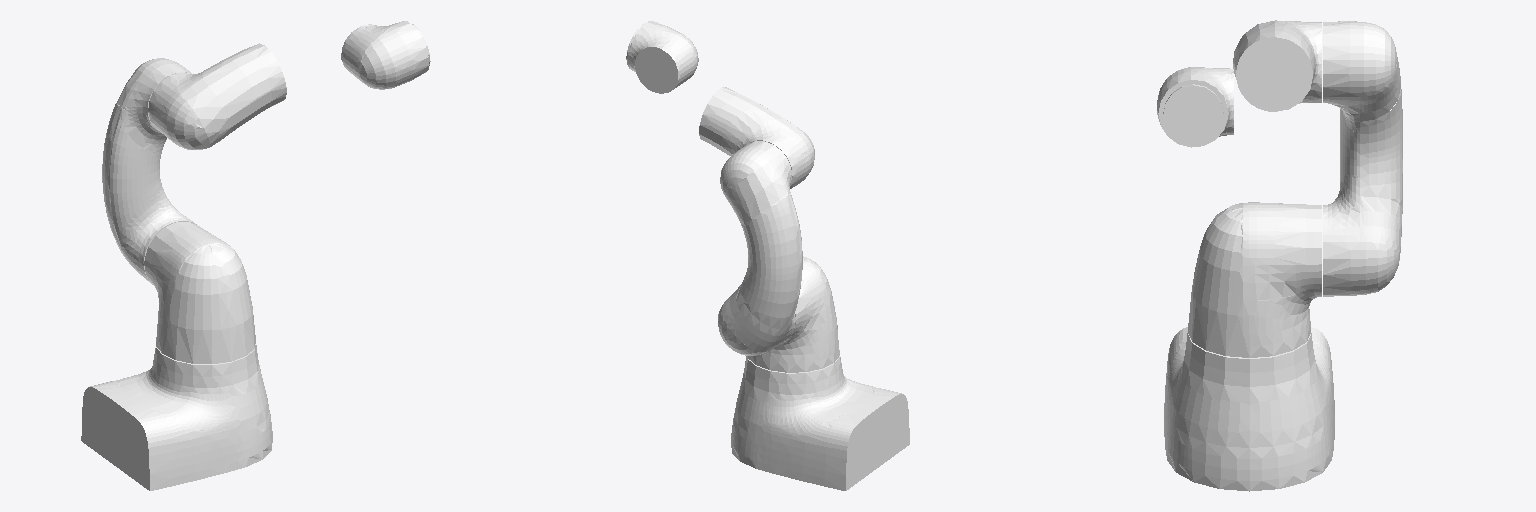
URDF robot description (cobotta):
<?xml version="1.0" encoding="utf-8"?>
<!-- =================================================================================== -->
<!-- |    This document was autogenerated by xacro from cobotta.urdf.xacro             | -->
<!-- |    EDITING THIS FILE BY HAND IS NOT RECOMMENDED                                 | -->
<!-- =================================================================================== -->
<robot name="cobotta">
  <!-- plugin for Gazebo -->
  <gazebo>
    <plugin filename="libgazebo_ros_control.so" name="gazebo_ros_control">
      <robotNamespace>/cobotta</robotNamespace>
      <robotSimType>gazebo_ros_control/DefaultRobotHWSim</robotSimType>
      <legacyModeNS>true</legacyModeNS>
    </plugin>
  </gazebo>
  <link name="world"/>
  <joint name="joint_w" type="fixed">
    <parent link="world"/>
    <child link="base_link"/>
  </joint>
  <link name="base_link">
    <visual>
      <origin rpy="0 0 0" xyz="0 0 0"/>
      <geometry>
        <mesh filename="package://denso_robot_descriptions/cobotta_description/base_link.dae" scale="1 1 1"/>
      </geometry>
    </visual>
    <collision>
      <origin rpy="0 0 0" xyz="0 0 0"/>
      <geometry>
        <mesh filename="package://denso_robot_descriptions/cobotta_description/base_link.dae" scale="1 1 1"/>
      </geometry>
    </collision>
    <inertial>
      <mass value="1.4"/>
      <origin rpy="0.000000 0.000000 0.000000" xyz="-0.021310 0.000002 0.044011"/>
      <inertia ixx="0.00266" ixy="0.0" ixz="0.0" iyy="0.00266" iyz="0.0" izz="0.00448"/>
    </inertial>
  </link>
  <link name="J1">
    <visual>
      <origin rpy="0 0 0" xyz="0 0 0"/>
      <geometry>
        <mesh filename="package://denso_robot_descriptions/cobotta_description/J1.dae" scale="1 1 1"/>
      </geometry>
    </visual>
    <collision>
      <origin rpy="0 0 0" xyz="0 0 0"/>
      <geometry>
        <mesh filename="package://denso_robot_descriptions/cobotta_description/J1.dae" scale="1 1 1"/>
      </geometry>
    </collision>
    <inertial>
      <mass value="1.29"/>
      <origin rpy="0.000000 0.000000 0.000000" xyz="0.000000 0.000000 0.15"/>
      <inertia ixx="0.002236" ixy="0.0" ixz="0.0" iyy="0.002236" iyz="0.0" izz="0.002322"/>
    </inertial>
  </link>
  <joint name="joint_1" type="revolute">
    <parent link="base_link"/>
    <child link="J1"/>
    <origin rpy="0.000000 0.000000 0.000000" xyz="0.000000 0.000000 0.000000"/>
    <axis xyz="-0.000000 -0.000000 1.000000"/>
    <limit effort="10" lower="-2.617994" upper="2.617994" velocity="0.40317105721069"/>
    <dynamics damping="0.001" friction="0.61"/>
  </joint>
  <transmission name="trans_1">
    <type>transmission_interface/SimpleTransmission</type>
    <joint name="joint_1">
      <hardwareInterface>hardware_interface/PositionJointInterface</hardwareInterface>
    </joint>
    <actuator name="motor_1">
      <hardwareInterface>hardware_interface/PositionJointInterface</hardwareInterface>
      <mechanicalReduction>1</mechanicalReduction>
    </actuator>
  </transmission>
  <link name="J2">
    <visual>
      <origin rpy="0 0 0" xyz="0 0 0"/>
      <geometry>
        <mesh filename="package://denso_robot_descriptions/cobotta_description/J2.dae" scale="1 1 1"/>
      </geometry>
    </visual>
    <collision>
      <origin rpy="0 0 0" xyz="0 0 0"/>
      <geometry>
        <mesh filename="package://denso_robot_descriptions/cobotta_description/J2.dae" scale="1 1 1"/>
      </geometry>
    </collision>
    <inertial>
      <mass value="0.39"/>
      <origin rpy="0.000000 0.000000 0.000000" xyz="-0.020000 0.100000 0.070000"/>
      <inertia ixx="0.00055575" ixy="0.0" ixz="0.0" iyy="0.00055575" iyz="0.0" izz="0.0001755"/>
    </inertial>
  </link>
  <joint name="joint_2" type="revolute">
    <parent link="J1"/>
    <child link="J2"/>
    <origin rpy="0.000000 0.000000 0.000000" xyz="0.000000 0.000000 0.180000"/>
    <axis xyz="-0.000000 1.000000 -0.000000"/>
    <limit effort="10" lower="-1.047198" upper="1.745329" velocity="0.392175482923126"/>
    <dynamics damping="0.001" friction="0.61"/>
  </joint>
  <transmission name="trans_2">
    <type>transmission_interface/SimpleTransmission</type>
    <joint name="joint_2">
      <hardwareInterface>hardware_interface/PositionJointInterface</hardwareInterface>
    </joint>
    <actuator name="motor_2">
      <hardwareInterface>hardware_interface/PositionJointInterface</hardwareInterface>
      <mechanicalReduction>1</mechanicalReduction>
    </actuator>
  </transmission>
  <link name="J3">
    <visual>
      <origin rpy="0 0 0" xyz="0 0 0"/>
      <geometry>
        <mesh filename="package://denso_robot_descriptions/cobotta_description/J3.dae" scale="1 1 1"/>
      </geometry>
    </visual>
    <collision>
      <origin rpy="0 0 0" xyz="0 0 0"/>
      <geometry>
        <mesh filename="package://denso_robot_descriptions/cobotta_description/J3.dae" scale="1 1 1"/>
      </geometry>
    </collision>
    <inertial>
      <mass value="0.35"/>
      <origin rpy="0.000000 0.000000 0.000000" xyz="-0.01000 0.020000 0.030000"/>
      <inertia ixx="0.000431666666667" ixy="0.0" ixz="0.0" iyy="0.000431666666667" iyz="0.0" izz="0.0001575"/>
    </inertial>
  </link>
  <joint name="joint_3" type="revolute">
    <parent link="J2"/>
    <child link="J3"/>
    <origin rpy="0.000000 0.000000 0.000000" xyz="0.000000 0.000000 0.165000"/>
    <axis xyz="-0.000000 1.000000 -0.000000"/>
    <limit effort="10" lower="0.3141593" upper="2.443461" velocity="0.725707902979242"/>
    <dynamics damping="0.001" friction="0.61"/>
  </joint>
  <transmission name="trans_3">
    <type>transmission_interface/SimpleTransmission</type>
    <joint name="joint_3">
      <hardwareInterface>hardware_interface/PositionJointInterface</hardwareInterface>
    </joint>
    <actuator name="motor_3">
      <hardwareInterface>hardware_interface/PositionJointInterface</hardwareInterface>
      <mechanicalReduction>1</mechanicalReduction>
    </actuator>
  </transmission>
  <link name="J4">
    <visual>
      <origin rpy="0 0 0" xyz="0 0 0"/>
      <geometry>
        <mesh filename="package://denso_robot_descriptions/cobotta_description/J4.dae" scale="1 1 1"/>
      </geometry>
    </visual>
    <collision>
      <origin rpy="0 0 0" xyz="0 0 0"/>
      <geometry>
        <mesh filename="package://denso_robot_descriptions/cobotta_description/J4.dae" scale="1 1 1"/>
      </geometry>
    </collision>
    <inertial>
      <mass value="0.35"/>
      <origin rpy="0.000000 0.000000 0.000000" xyz="0.0000 0.000000 0.055000"/>
      <inertia ixx="0.000431666666667" ixy="0.0" ixz="0.0" iyy="0.000431666666667" iyz="0.0" izz="0.0001575"/>
    </inertial>
  </link>
  <joint name="joint_4" type="revolute">
    <parent link="J3"/>
    <child link="J4"/>
    <origin rpy="0.000000 0.000000 0.000000" xyz="-0.012000 0.020000 0.088000"/>
    <axis xyz="-0.000000 -0.000000 1.000000"/>
    <limit effort="10" lower="-2.96706" upper="2.96706" velocity="0.739146938219599"/>
    <dynamics damping="0.001" friction="0.61"/>
  </joint>
  <transmission name="trans_4">
    <type>transmission_interface/SimpleTransmission</type>
    <joint name="joint_4">
      <hardwareInterface>hardware_interface/PositionJointInterface</hardwareInterface>
    </joint>
    <actuator name="motor_4">
      <hardwareInterface>hardware_interface/PositionJointInterface</hardwareInterface>
      <mechanicalReduction>1</mechanicalReduction>
    </actuator>
  </transmission>
  <link name="J5">
    <visual>
      <origin rpy="0 0 0" xyz="0 0 0"/>
      <geometry>
        <mesh filename="package://denso_robot_descriptions/cobotta_description/J5.dae" scale="1 1 1"/>
      </geometry>
    </visual>
    <collision>
      <origin rpy="0 0 0" xyz="0 0 0"/>
      <geometry>
        <mesh filename="package://denso_robot_descriptions/cobotta_description/J5.dae" scale="1 1 1"/>
      </geometry>
    </collision>
    <inertial>
      <mass value="0.19"/>
      <origin rpy="0.000000 0.000000 0.000000" xyz="0.000000 -0.040000 0.015000"/>
      <inertia ixx="9.975e-05" ixy="0.0" ixz="0.0" iyy="9.975e-05" iyz="0.0" izz="8.55e-05"/>
    </inertial>
  </link>
  <joint name="joint_5" type="revolute">
    <parent link="J4"/>
    <child link="J5"/>
    <origin rpy="0.000000 0.000000 0.000000" xyz="0.000000 -0.020000 0.089500"/>
    <axis xyz="-0.000000 1.000000 -0.000000"/>
    <limit effort="10" lower="-1.658063" upper="2.356194" velocity="0.739146938219599"/>
    <dynamics damping="0.001" friction="0.61"/>
  </joint>
  <transmission name="trans_5">
    <type>transmission_interface/SimpleTransmission</type>
    <joint name="joint_5">
      <hardwareInterface>hardware_interface/PositionJointInterface</hardwareInterface>
    </joint>
    <actuator name="motor_5">
      <hardwareInterface>hardware_interface/PositionJointInterface</hardwareInterface>
      <mechanicalReduction>1</mechanicalReduction>
    </actuator>
  </transmission>
  <link name="J6">
    <visual>
      <origin rpy="0 0 0" xyz="0 0 0"/>
      <geometry>
        <mesh filename="package://denso_robot_descriptions/cobotta_description/J6.dae" scale="1 1 1"/>
      </geometry>
    </visual>
    <collision>
      <origin rpy="0 0 0" xyz="0 0 0"/>
      <geometry>
        <mesh filename="package://denso_robot_descriptions/cobotta_description/J6.dae" scale="1 1 1"/>
      </geometry>
    </collision>
    <inertial>
      <mass value="0.03"/>
      <origin rpy="0.000000 0.000000 0.000000" xyz="0.000000 0.000000 0.000000"/>
      <inertia ixx="7e-06" ixy="0.0" ixz="0.0" iyy="7e-06" iyz="0.0" izz="1.35e-05"/>
    </inertial>
  </link>
  <joint name="joint_6" type="revolute">
    <parent link="J5"/>
    <child link="J6"/>
    <origin rpy="0.000000 0.000000 0.000000" xyz="0.000000 -0.044500 0.042000"/>
    <axis xyz="-0.000000 -0.000000 1.000000"/>
    <limit effort="10" lower="-2.96706" upper="2.96706" velocity="1.1093312725676"/>
    <dynamics damping="0.001" friction="0.61"/>
  </joint>
  <transmission name="trans_6">
    <type>transmission_interface/SimpleTransmission</type>
    <joint name="joint_6">
      <hardwareInterface>hardware_interface/PositionJointInterface</hardwareInterface>
    </joint>
    <actuator name="motor_6">
      <hardwareInterface>hardware_interface/PositionJointInterface</hardwareInterface>
      <mechanicalReduction>1</mechanicalReduction>
    </actuator>
  </transmission>
  <link name="gripper_base">
    <visual>
      <origin rpy="0 0 0" xyz="0.000000 0.000000 0.000000"/>
      <geometry>
        <mesh filename="package://denso_robot_descriptions/cobotta_description/gripper_base.dae" scale="1 1 1"/>
      </geometry>
    </visual>
    <collision>
      <origin rpy="0 0 0" xyz="0 0 0"/>
      <geometry>
        <mesh filename="package://denso_robot_descriptions/cobotta_description/gripper_base.dae" scale="1 1 1"/>
      </geometry>
    </collision>
    <inertial>
      <mass value="1"/>
      <origin rpy="0.000000 0.000000 0.000000" xyz="0.000000 0.000000 0.000000"/>
      <inertia ixx="1" ixy="0" ixz="0" iyy="1" iyz="0" izz="1"/>
    </inertial>
  </link>
  <joint name="joint_gripper_base" type="fixed">
    <parent link="J6"/>
    <child link="gripper_base"/>
    <origin rpy="0.000000 0.000000 0.000000" xyz="0.000000 0.000000 0.0000000"/>
  </joint>
  <link name="left_finger">
    <visual>
      <origin rpy="0.000000 0.000000 0.000000" xyz="0.000000 0.000000 -0.060000"/>
      <geometry>
        <mesh filename="package://denso_robot_descriptions/cobotta_description/left_finger.dae" scale="1 1 1"/>
      </geometry>
    </visual>
    <collision>
      <origin rpy="0 0 0" xyz="0.000000 0.000000 -0.060000"/>
      <geometry>
        <mesh filename="package://denso_robot_descriptions/cobotta_description/left_finger.dae" scale="1 1 1"/>
      </geometry>
    </collision>
    <inertial>
      <mass value="1"/>
      <origin rpy="0.000000 0.000000 0.000000" xyz="0.000000 0.000000 0.000000"/>
      <inertia ixx="1" ixy="0" ixz="0" iyy="1" iyz="0" izz="1"/>
    </inertial>
  </link>
  <joint name="joint_gripper" type="prismatic">
    <parent link="gripper_base"/>
    <child link="left_finger"/>
    <origin rpy="0.000000 0.000000 0.000000" xyz="0.000000 0.000000 0.06000"/>
    <axis xyz="-0.000000 1.000000 -0.000000"/>
    <limit effort="20" lower="0.000000" upper="0.015000" velocity="0.040000"/>
    <dynamics damping="0" friction="0"/>
  </joint>
  <transmission name="trans_gripper">
    <type>transmission_interface/SimpleTransmission</type>
    <joint name="joint_gripper">
      <hardwareInterface>hardware_interface/PositionJointInterface</hardwareInterface>
    </joint>
    <actuator name="motor_gripper">
      <hardwareInterface>hardware_interface/PositionJointInterface</hardwareInterface>
      <mechanicalReduction>1</mechanicalReduction>
    </actuator>
  </transmission>
  <link name="right_finger">
    <visual>
      <origin rpy="0.000000 0.000000 0.000000" xyz="0.000000 0.000000 -0.060000"/>
      <geometry>
        <mesh filename="package://denso_robot_descriptions/cobotta_description/right_finger.dae" scale="1 1 1"/>
      </geometry>
    </visual>
    <collision>
      <origin rpy="0 0 0" xyz="0.000000 0.000000 -0.060000"/>
      <geometry>
        <mesh filename="package://denso_robot_descriptions/cobotta_description/right_finger.dae" scale="1 1 1"/>
      </geometry>
    </collision>
    <inertial>
      <mass value="1"/>
      <origin rpy="0.000000 0.000000 0.000000" xyz="0.000000 0.000000 0.000000"/>
      <inertia ixx="1" ixy="0" ixz="0" iyy="1" iyz="0" izz="1"/>
    </inertial>
  </link>
  <joint name="joint_gripper_mimic" type="prismatic">
    <parent link="gripper_base"/>
    <child link="right_finger"/>
    <mimic joint="joint_gripper" multiplier="-1.000000" offset="0.000000"/>
    <origin rpy="0.000000 0.000000 0.000000" xyz="0.000000 0.000000 0.060000"/>
    <axis xyz="-0.000000 1.000000 -0.000000"/>
    <limit effort="20" lower="-0.015000" upper="0.000000" velocity="0.040000"/>
    <dynamics damping="0" friction="0"/>
  </joint>
</robot>

--- Render facts (derived) ---
Views: 3 orthographic renders of the robot side by side, from view 1: azimuth 30°, elevation 25°; view 2: azimuth 150°, elevation 25°; view 3: azimuth 270°, elevation 25°.
Robot: cobotta — 11 links, 10 joints (6 revolute, 2 prismatic, 2 fixed); root link world; default pose: joints at zero except 1 at the middle of their limits (joint_3 = 1.38).
Links seen in each view (by area): view 1: base_link, J1, J2, J3, J5; view 2: base_link, J2, J3, J1, J5; view 3: base_link, J2, J1, J3, J6, J5.
Link boxes in pixels (x1,y1,x2,y2): base_link: [81, 344, 272, 490]; J1: [144, 222, 255, 363]; J2: [102, 58, 196, 284]; J3: [148, 43, 286, 149]; J5: [341, 21, 429, 89]; base_link: [731, 356, 909, 490]; J2: [718, 141, 802, 355]; J3: [699, 87, 814, 188]; J1: [748, 256, 839, 372]; J5: [627, 21, 698, 93]; base_link: [1164, 327, 1334, 491]; J2: [1323, 21, 1402, 296]; J1: [1188, 202, 1321, 357]; J3: [1233, 20, 1321, 111]; J6: [1163, 84, 1223, 143]; J5: [1157, 67, 1233, 147].
Bounding box of the posed robot: 0.3198 × 0.1957 × 0.4252 m (x, y, z).
Meshes: 10 distinct files referenced, 6 mesh visuals loaded (6 Collada DAE); not drawn: 4 (reference not matched to a file when rendering).